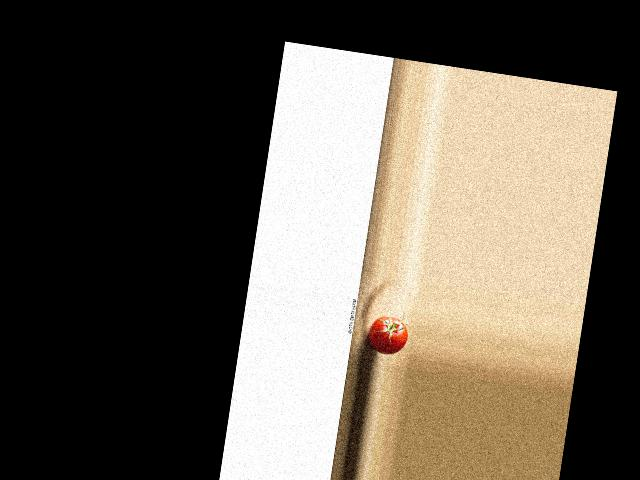tomato: (366, 313, 409, 356)
